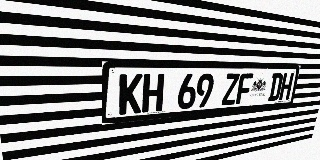6: (177, 74, 198, 110)
9: (195, 73, 215, 108)
D: (268, 73, 284, 101)
F: (236, 73, 253, 104)
H: (142, 74, 165, 113), (279, 73, 294, 100)
K: (119, 74, 143, 115)
Z: (221, 73, 240, 105)
